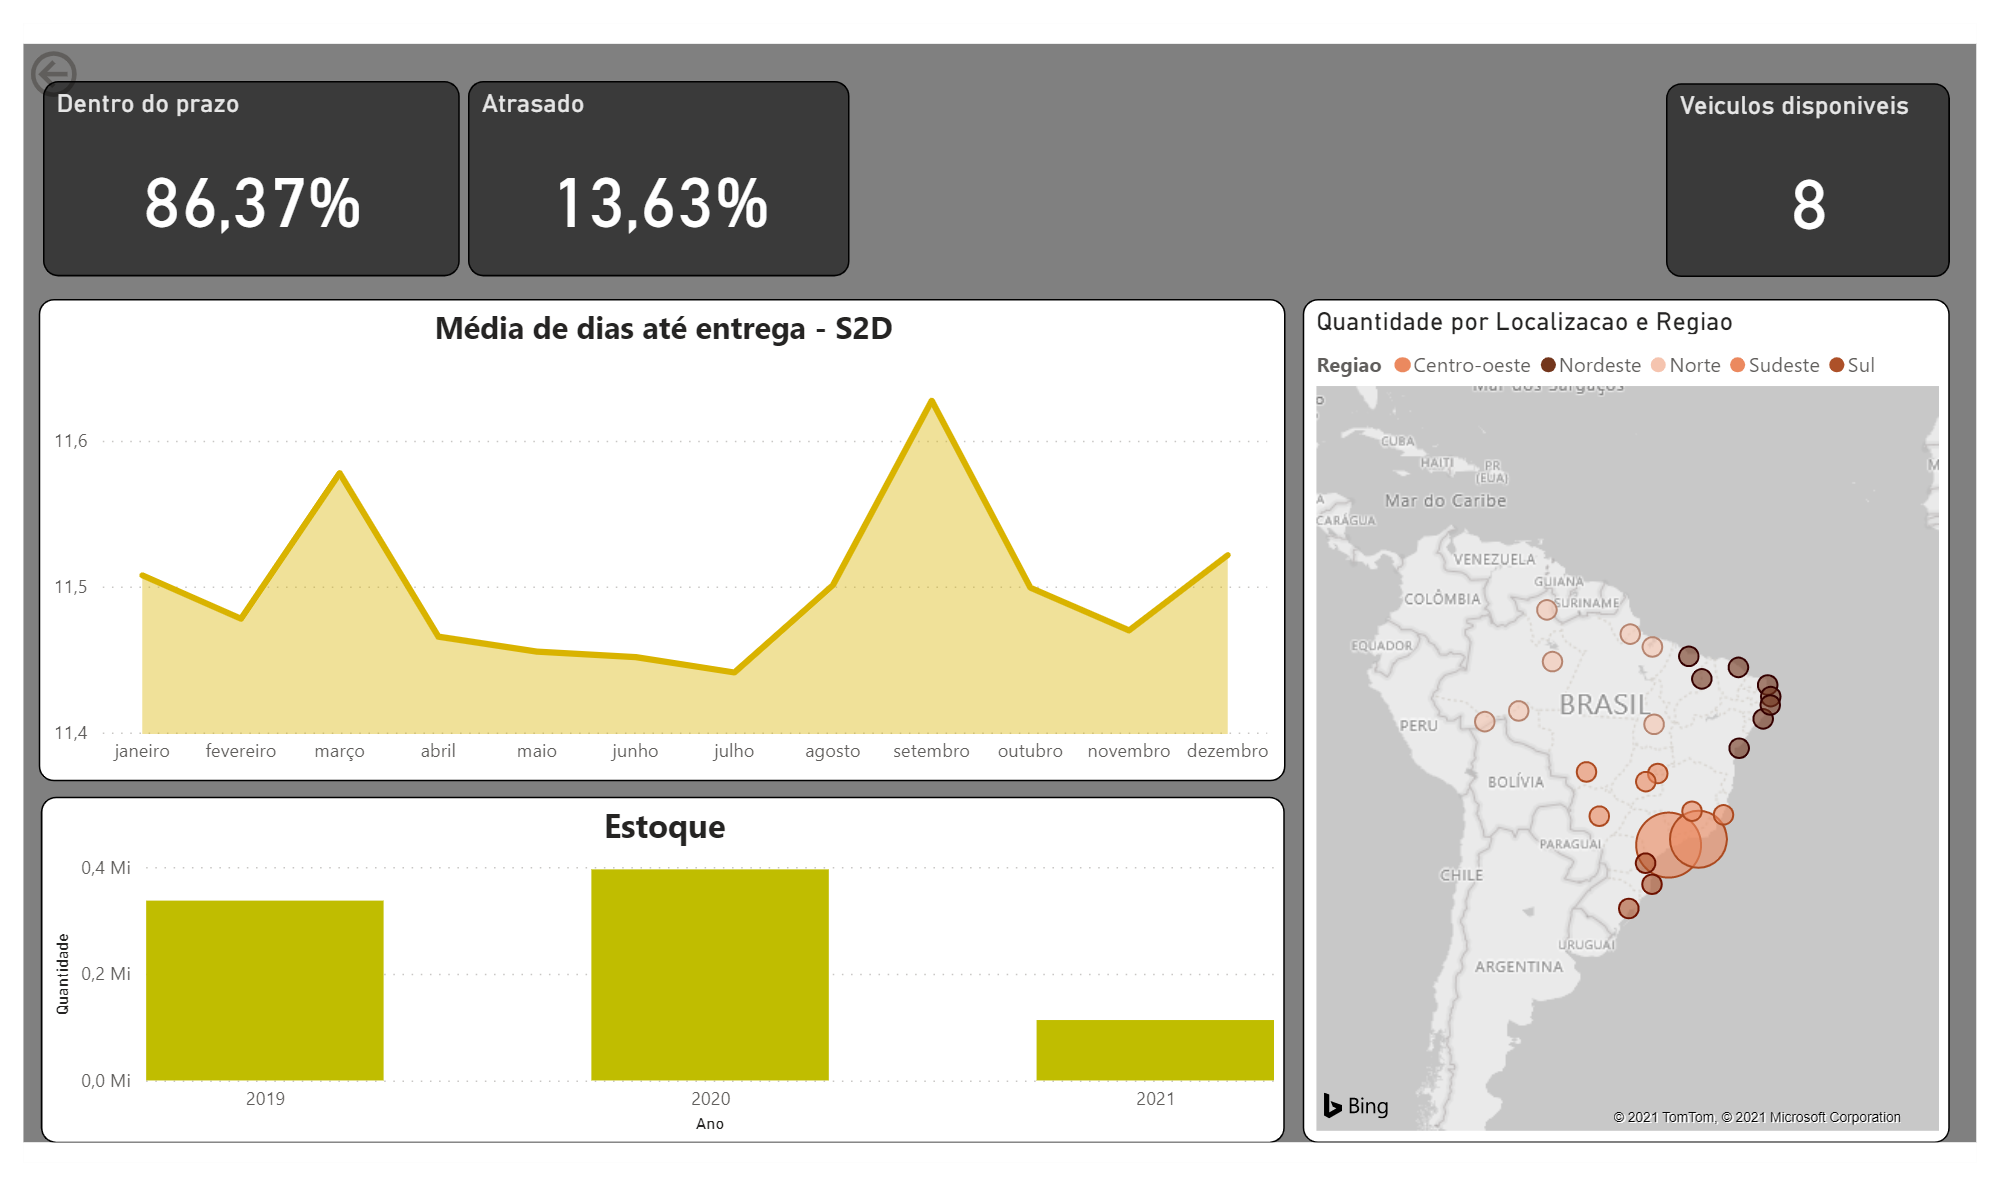

What the dashboard file says about the page in this screenshot:
{"tool":"powerbi","page":{"name":"Página 1","canvas":[1280,720],"ordinal":0},"visuals":[{"type":"actionButton","box":[0,0,100,40],"z":0},{"type":"card","title":"Veiculos disponiveis","fields":{"Values":["CountNonNull(Tabela - Veículos.Status)"]},"box":[1076.4,26,186.1,127],"z":1000},{"type":"card","title":"Atrasado","fields":{"Values":["Tabela - Pedidos.%_StatusForaDoPrazo"]},"box":[291.9,24.5,249.9,127.8],"z":2000},{"type":"card","title":"Dentro  do prazo","fields":{"Values":["Tabela - Pedidos.%_StatusDentroDoPrazo"]},"box":[13.6,24.5,272.7,127.8],"z":3000},{"type":"areaChart","title":"Média de dias até entrega - S2D","fields":{"Category":["Tabela - Pedidos.Data da compra 0.Variation.Hierarquia de datas.Ano","Tabela - Pedidos.Data da compra 0.Variation.Hierarquia de datas.Trimestre","Tabela - Pedidos.Data da compra 0.Variation.Hierarquia de datas.Mês","Tabela - Pedidos.Data da compra 0.Variation.Hierarquia de datas.Dia"],"Y":["Avg(Tabela - Pedidos.Ship to dor [dias])"]},"box":[10.1,167.4,816.7,316],"z":4000},{"type":"map","fields":{"Category":["Tabela - Pedidos.Localizacao"],"Size":["Sum(Tabela - Pedidos.Quantidade)"],"Series":["Tabela - Pedidos.Regiao"]},"box":[838.3,167.4,424.2,552.6],"z":5000},{"type":"clusteredColumnChart","title":"Estoque","fields":{"Y":["Sum(Tabela - Estoque.Quantidade)"],"Category":["Tabela - Estoque.Data atualização.Variation.Hierarquia de datas.Ano","Tabela - Estoque.Data atualização.Variation.Hierarquia de datas.Trimestre","Tabela - Estoque.Data atualização.Variation.Hierarquia de datas.Mês","Tabela - Estoque.Data atualização.Variation.Hierarquia de datas.Dia"]},"box":[11.5,493.5,815.2,226.5],"z":6000}]}

Visuals, with their boxes in screenshot pixels (x1, y1, x2, y2):
actionButton: region(21, 36, 175, 98)
"Veiculos disponiveis" card: region(1679, 77, 1966, 272)
"Atrasado" card: region(471, 74, 856, 271)
"Dentro  do prazo" card: region(42, 74, 462, 271)
"Média de dias até entrega - S2D" areaChart: region(36, 294, 1295, 781)
map - Tabela - Pedidos.Localizacao x Sum(Tabela - Pedidos.Quantidade): region(1313, 294, 1966, 1146)
"Estoque" clusteredColumnChart: region(39, 797, 1295, 1146)
